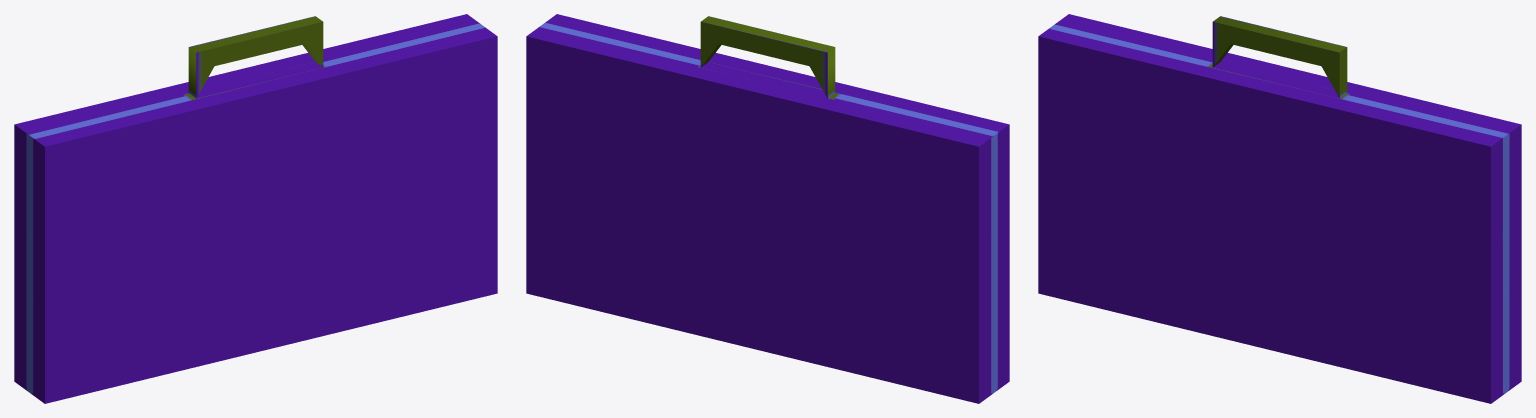
Rendered from suitcase2.fbx.
3 views of the same model, side by side, from view 1: azimuth 30°, elevation 25°; view 2: azimuth 150°, elevation 25°; view 3: azimuth 330°, elevation 25° (orthographic).
Parts seen in each view (by area): view 1: pasted__brefcase2; view 2: pasted__brefcase2; view 3: pasted__brefcase2.
Part boxes in pixels (box(x1,y1,x2,y2)): pasted__brefcase2: box(14, 14, 497, 403); pasted__brefcase2: box(526, 14, 1009, 403); pasted__brefcase2: box(1038, 14, 1521, 403).
Bounding box in the file's own units: 93.44 × 59.82 × 10.91.
